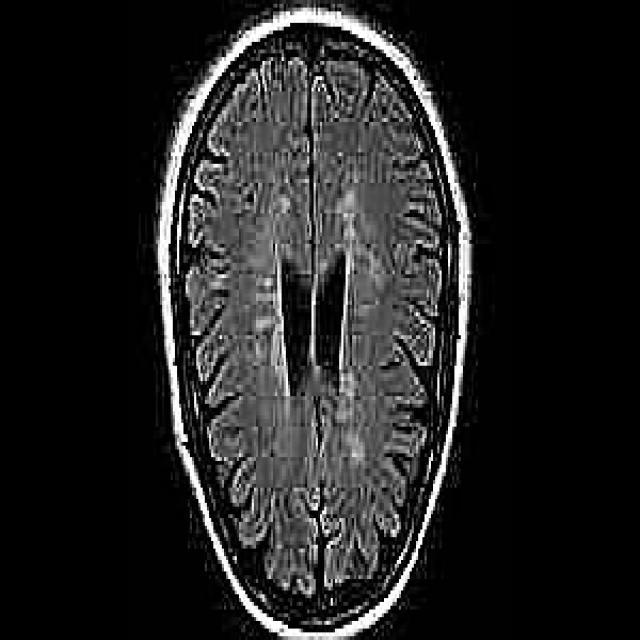notumor: (154, 8, 474, 636)
